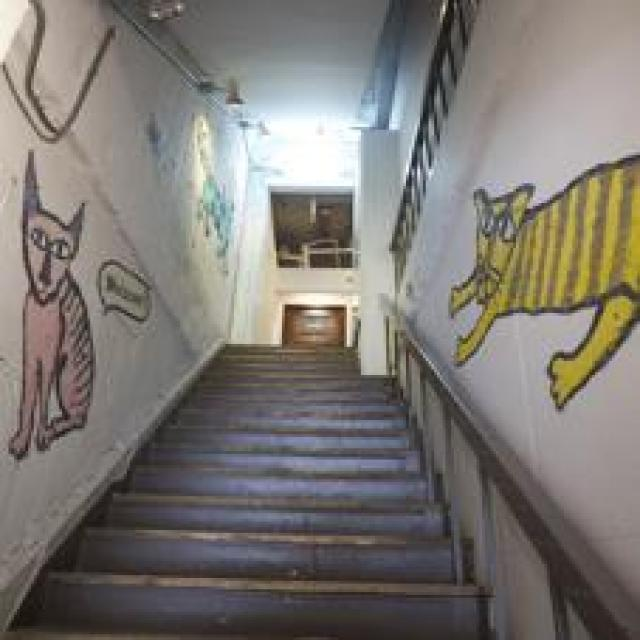upstair: (60, 435, 503, 627)
